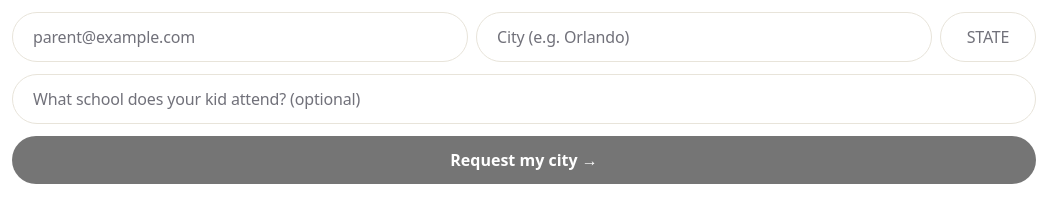
Test case: CityRequestForm › disables submit until email + city are valid
Expected: the button "Request my city →" is disabled, [12,136,1036,184]
Type "a@b.com" into the field with placeholder "parent@example.com" at point(240, 37), box [12,12,468,62]
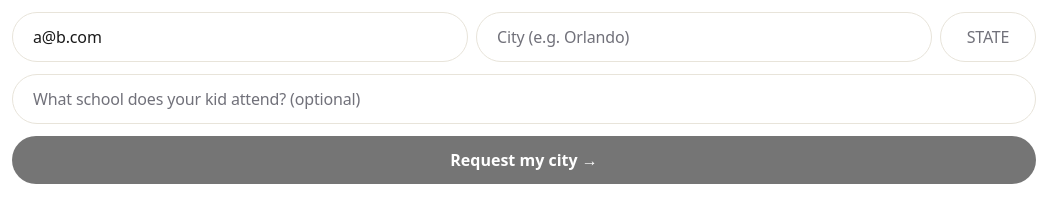
Expected: the button "Request my city →" is disabled, [12,136,1036,184]
Type "Orlando" into the field with placeholder "City (e.g. Orlando)" at point(704, 37), box [476,12,932,62]
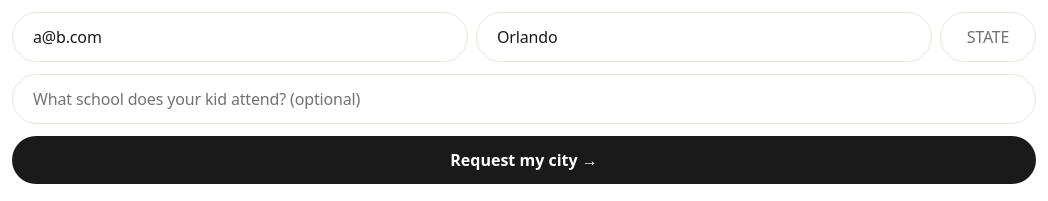
Expected: the button "Request my city →" is enabled, [12,136,1036,184]
